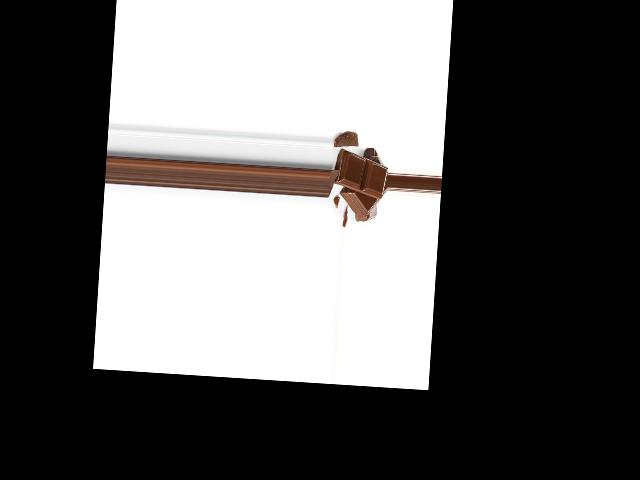chocolate: (334, 150, 386, 199)
